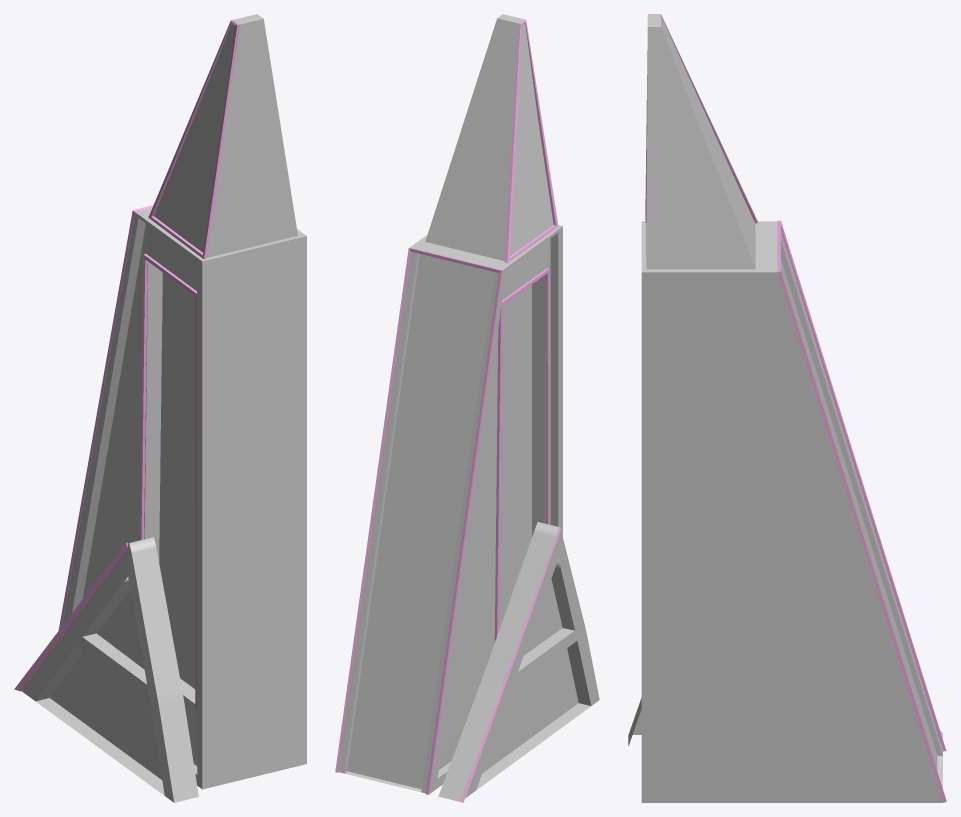
File: SM_Environment_Buildings_Mid_02.fbx
3 renders of one model, left to right at view 1: azimuth 30°, elevation 25°; view 2: azimuth 150°, elevation 25°; view 3: azimuth 270°, elevation 25°, orthographic. The views are drawn at different scales.
Visible parts, largest first — view 1: SM_Environment_Buildings_Mid_02, Lights; view 2: SM_Environment_Buildings_Mid_02, Lights; view 3: SM_Environment_Buildings_Mid_02, Lights.
Part boxes in pixels (bbox=[...]): SM_Environment_Buildings_Mid_02: bbox=[21, 14, 306, 802]; Lights: bbox=[14, 20, 238, 710]; SM_Environment_Buildings_Mid_02: bbox=[338, 14, 599, 801]; Lights: bbox=[335, 19, 561, 802]; SM_Environment_Buildings_Mid_02: bbox=[628, 15, 942, 802]; Lights: bbox=[645, 14, 946, 802].
Bounding box in the file's own units: 8.2 × 41.35 × 15.75.
